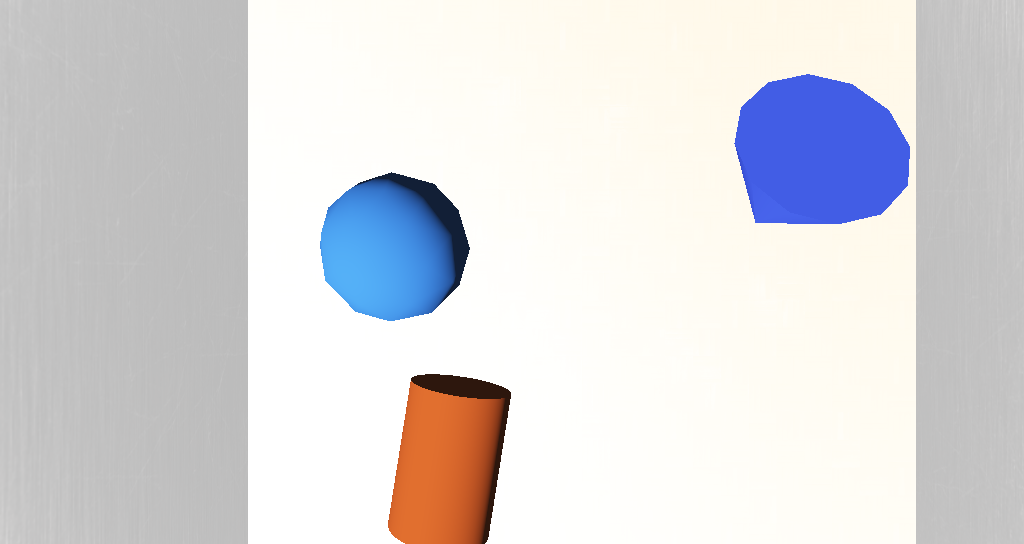cone: (418, 303, 472, 356)
cylinder: (552, 212, 620, 274)
sphere: (394, 241, 455, 284)
